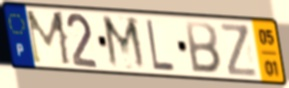2: (66, 12, 99, 70)
B: (184, 20, 223, 76)
L: (144, 17, 177, 73)
M: (23, 9, 74, 69), (100, 14, 149, 73)
Z: (218, 22, 260, 79)
